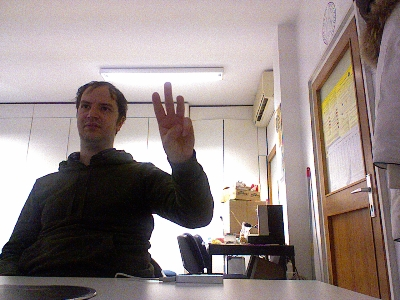三分: (150, 80, 195, 162)
